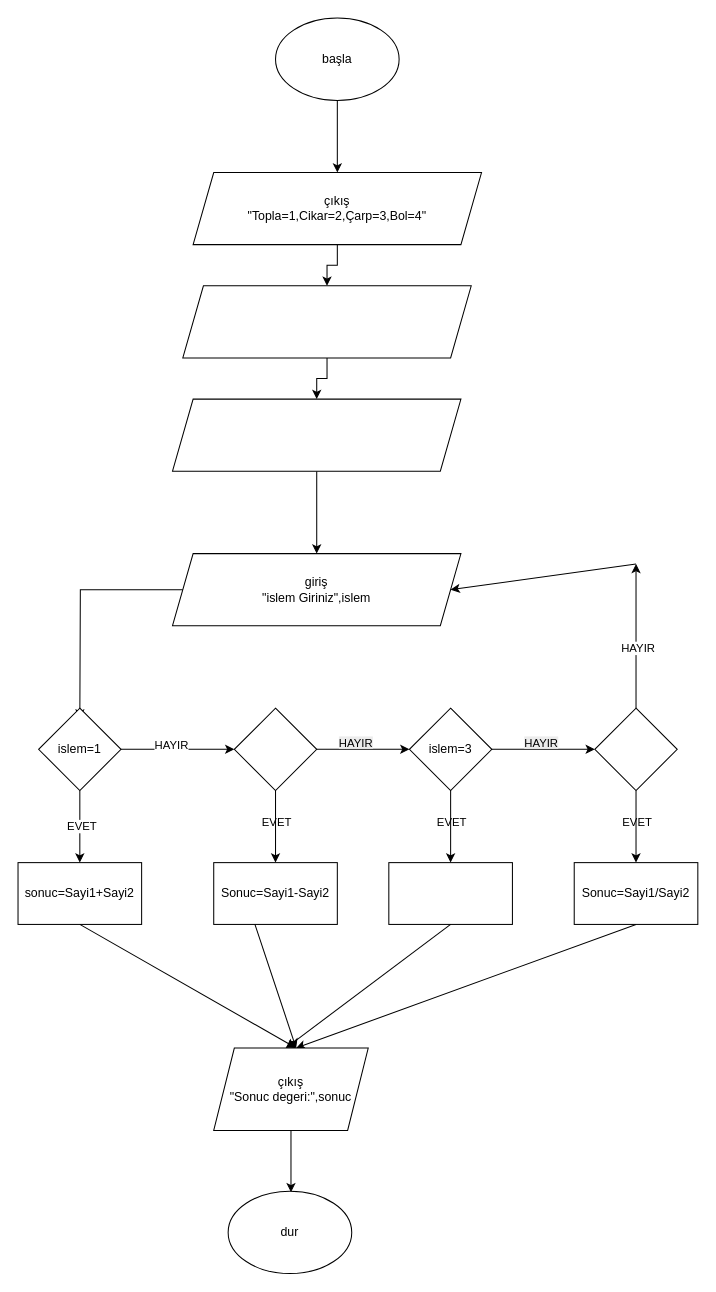
Image size: 716x1292. Some labels were removed from this diagram. Here are the shapes that lost their labels. From the top down, the centre of each, then its label:
pixel 326 321: giriş "Sayi1 Giriniz",Sayi1
pixel 316 434: giriş "Sayi2 Giriniz",Sayi2
pixel 275 749: islem=2
pixel 635 749: islem=4
pixel 450 893: Sonuc=Sayi1*Sayi2
